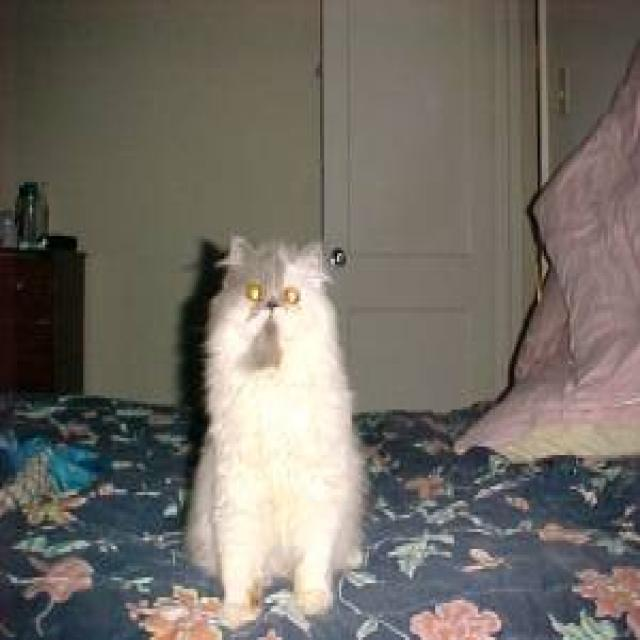Persian: (202, 229, 337, 374)
